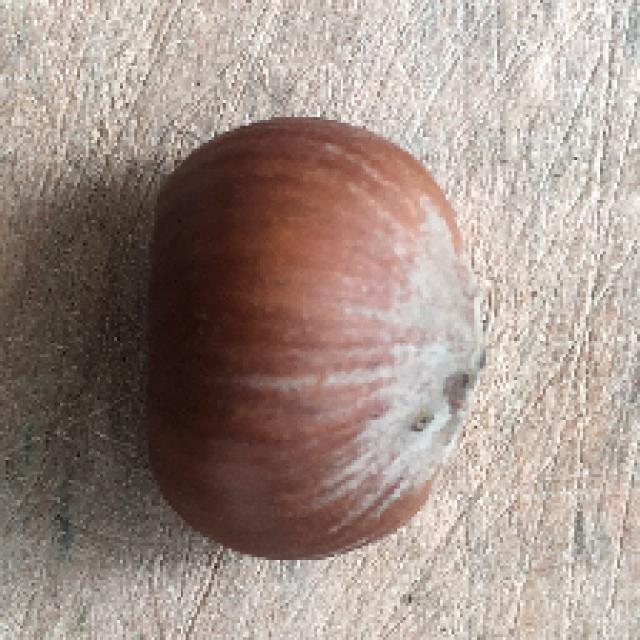DamagedHazelnut: (143, 119, 486, 558)
